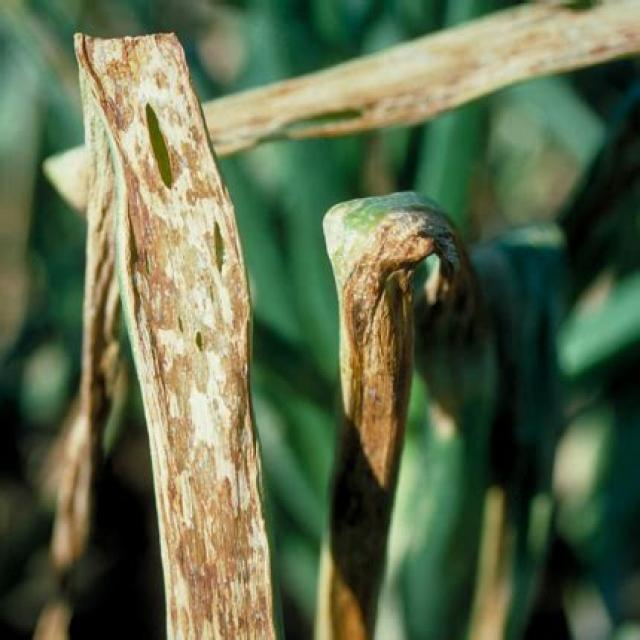blight: (140, 221, 253, 553), (354, 216, 421, 448)
